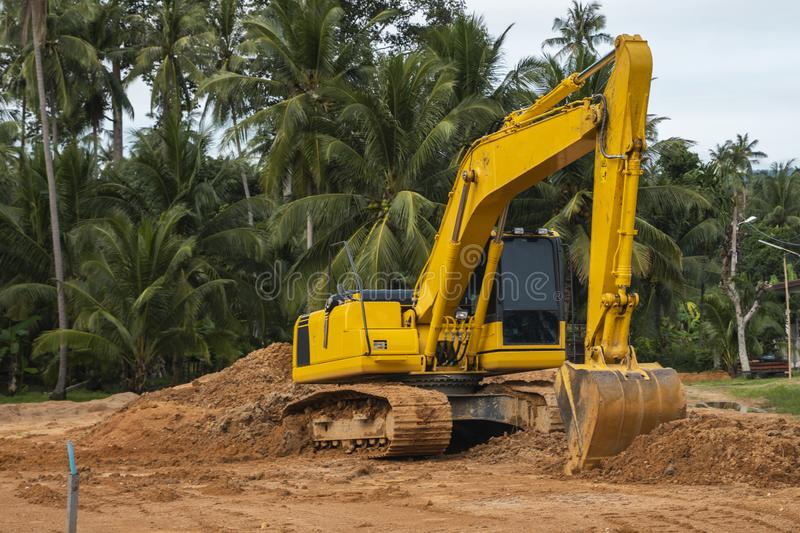excavator: (273, 20, 699, 469)
